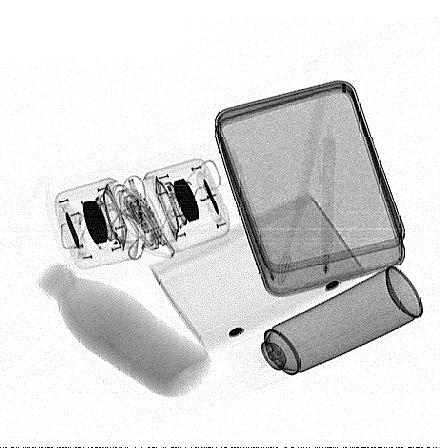Sprayer: (228, 265, 425, 390)
